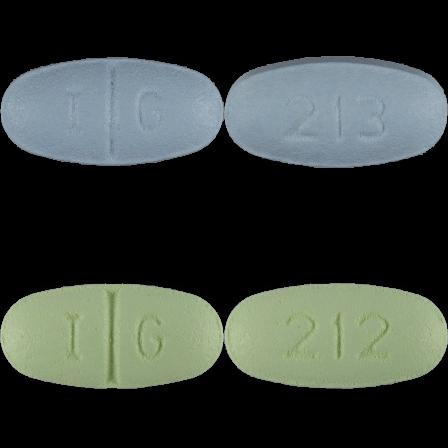54458-944: (0, 0, 224, 224)
